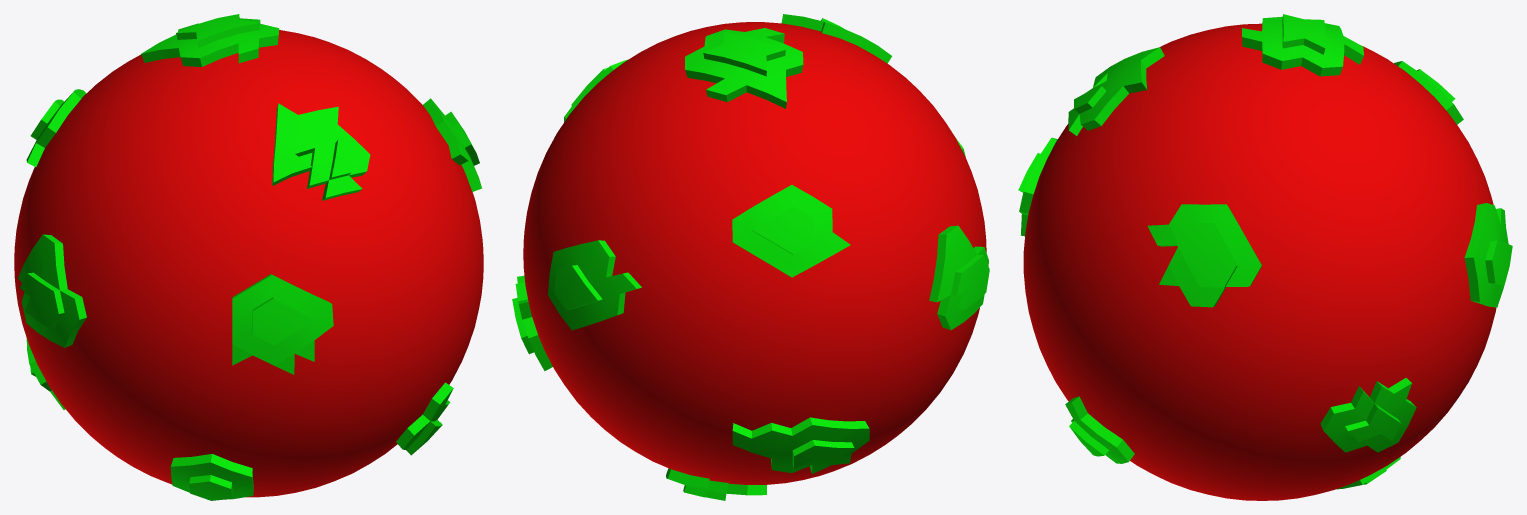
File: Planet_B2.fbx
The picture shows the model from 3 angles, left to right: view 1: azimuth 30°, elevation 25°; view 2: azimuth 150°, elevation 25°; view 3: azimuth 270°, elevation 25°; orthographic projection. The views are drawn at different scales.
Visible parts, largest first — view 1: Planet_B; view 2: Planet_B; view 3: Planet_B.
Boxes of the visible parts, x1=… form: Planet_B: x1=14, y1=14, x2=483, y2=500; Planet_B: x1=512, y1=14, x2=989, y2=500; Planet_B: x1=1018, y1=14, x2=1512, y2=500.
Size of the model in its own units: 329 by 335 by 328.
